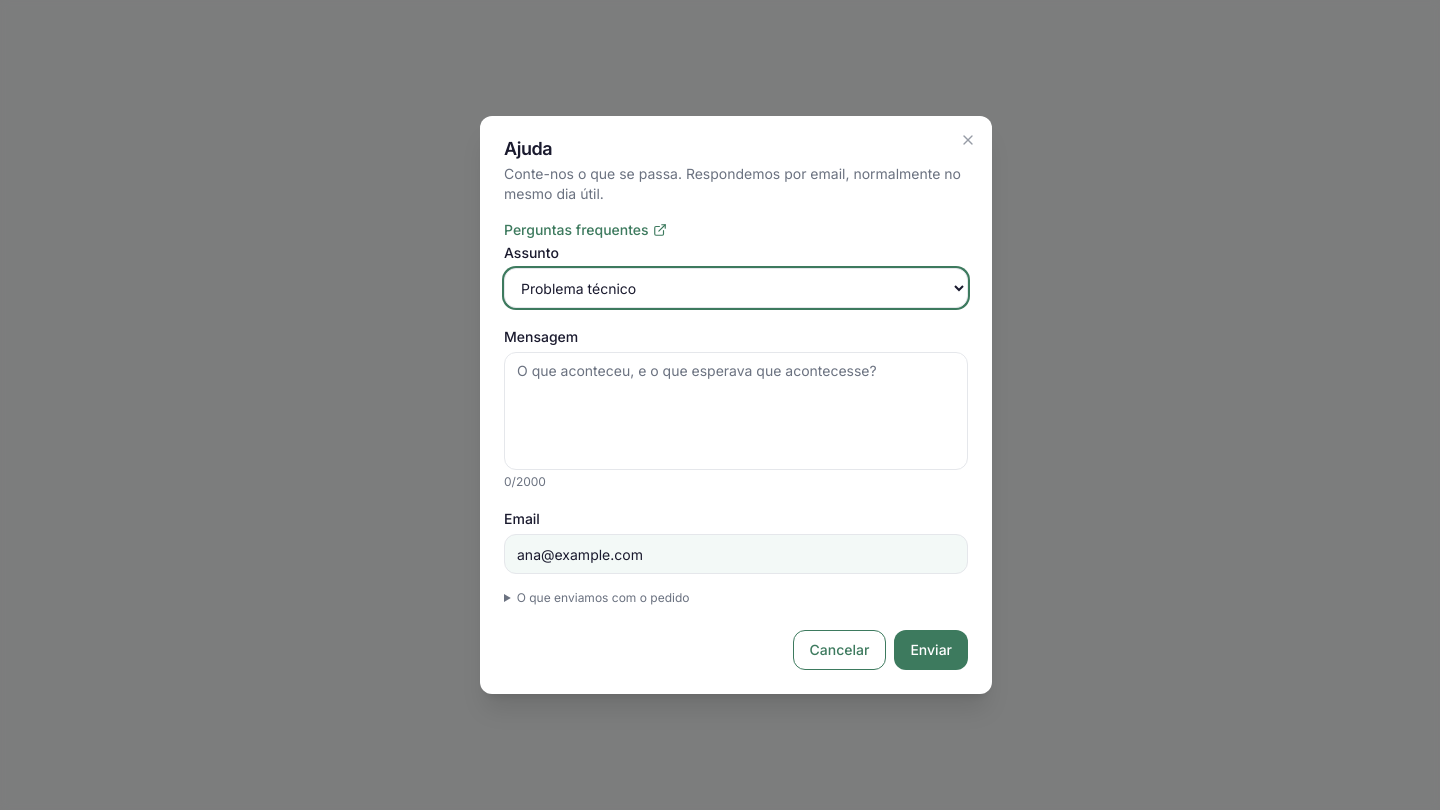
Test: HelpDialog — signed in › prefills the email read-only and mentions the user in what it sends
The width and height of the screenshot is (1440, 810).
Expected: the field labelled "Email" holds "ana@example.com", left=504, top=534, right=968, bottom=574
Step 1. Click the heading "O que enviamos com o pedido" → (603, 598), box left=517, top=590, right=689, bottom=605
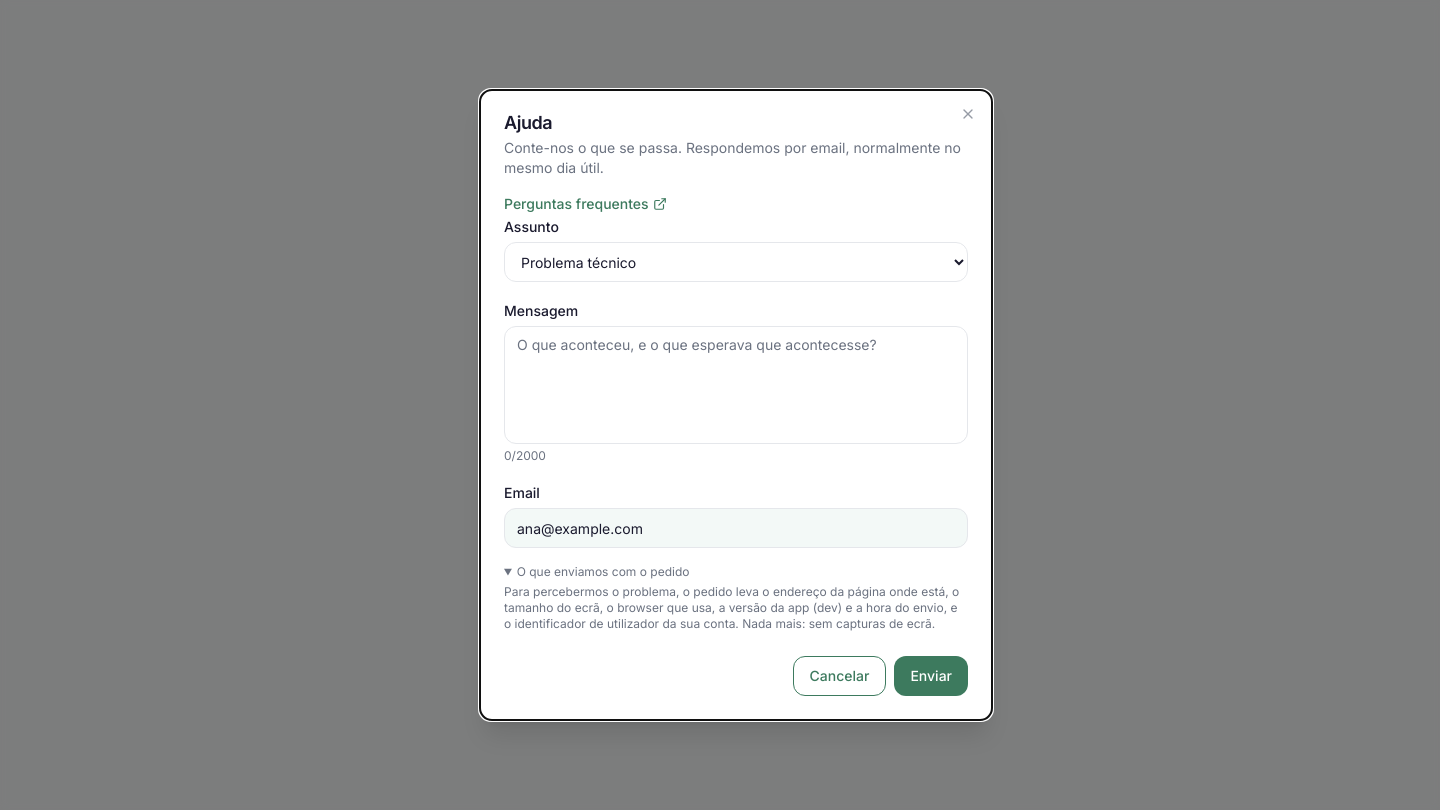
Expected: the text "O que enviamos" shows "utilizador", left=504, top=584, right=959, bottom=631
